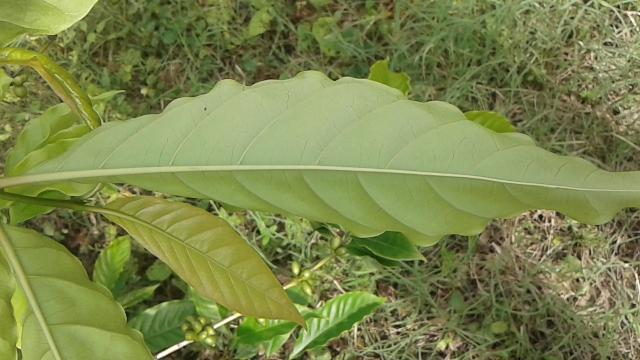healthy: (22, 68, 638, 244)
